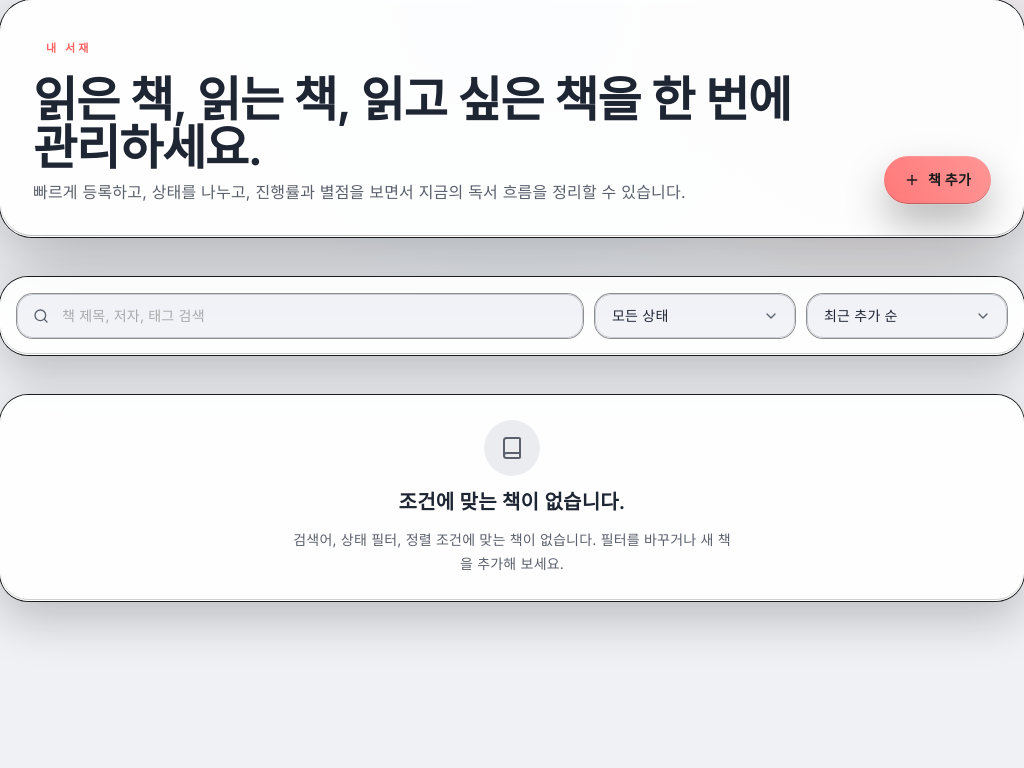
Test: BookListView › shows a hidden-by-filter notice after adding a book outside the current filter
Select "읽는 중" in the 1st dropdown at [695, 316], box [595,294,795,338]
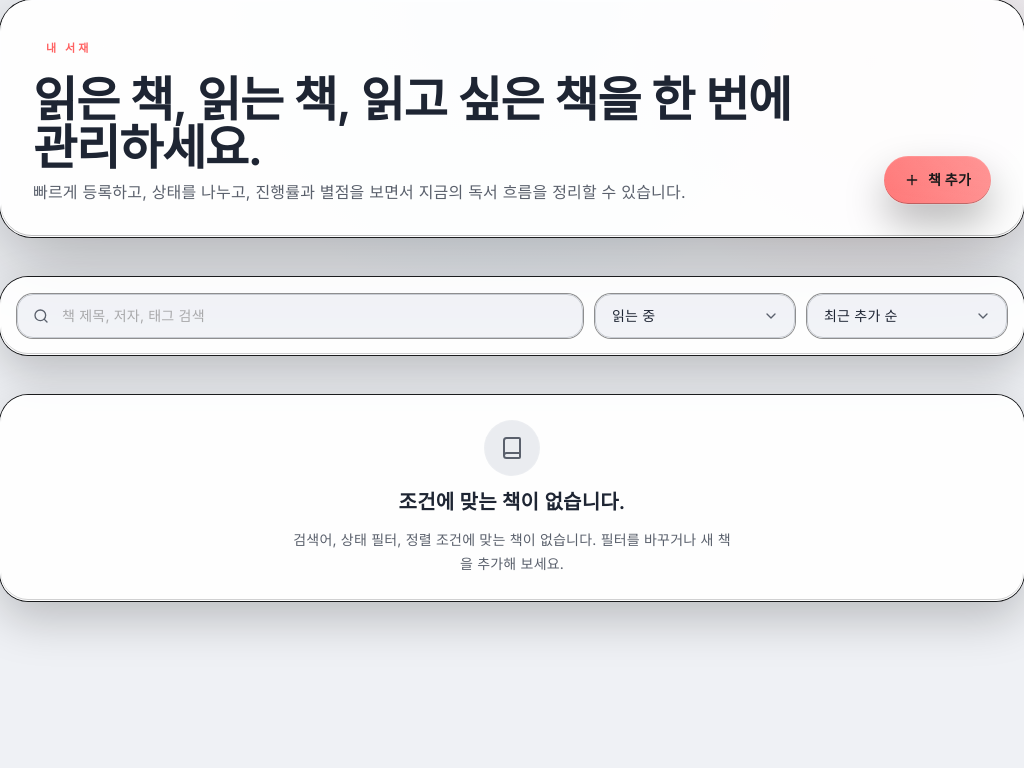
Click the button "책 추가".
click(938, 180)  # box [884,156,991,204]
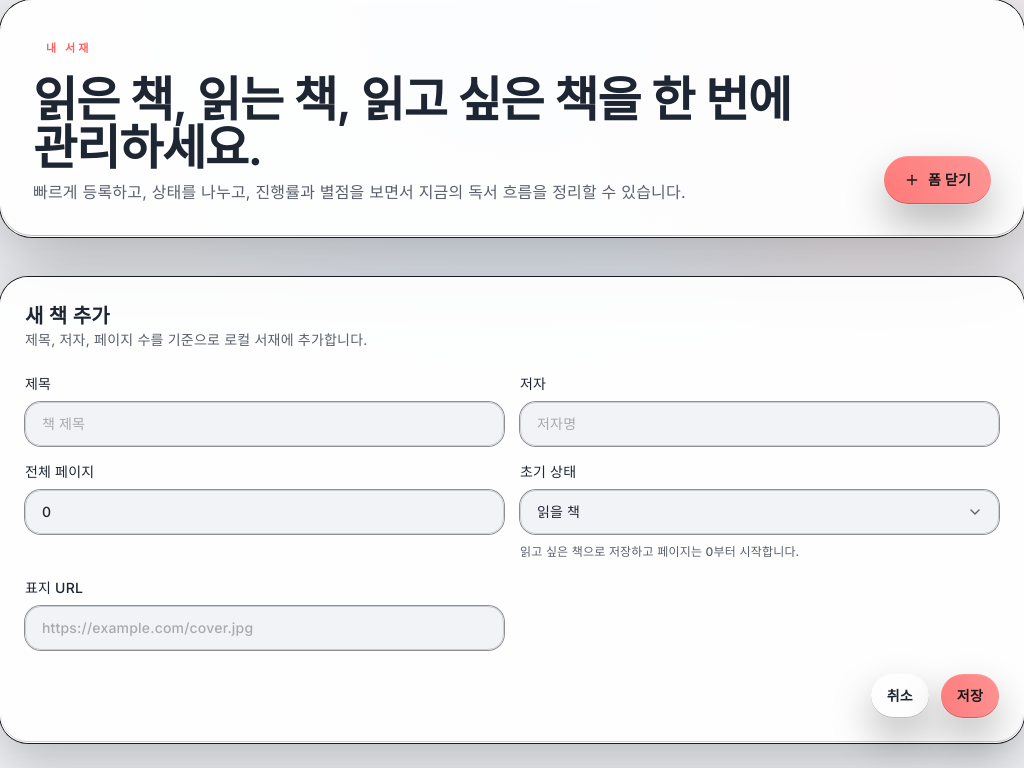
Type "Paused Book" into the field with placeholder "책 제목".
click(264, 424); type("Paused Book")  # box [25,402,504,446]
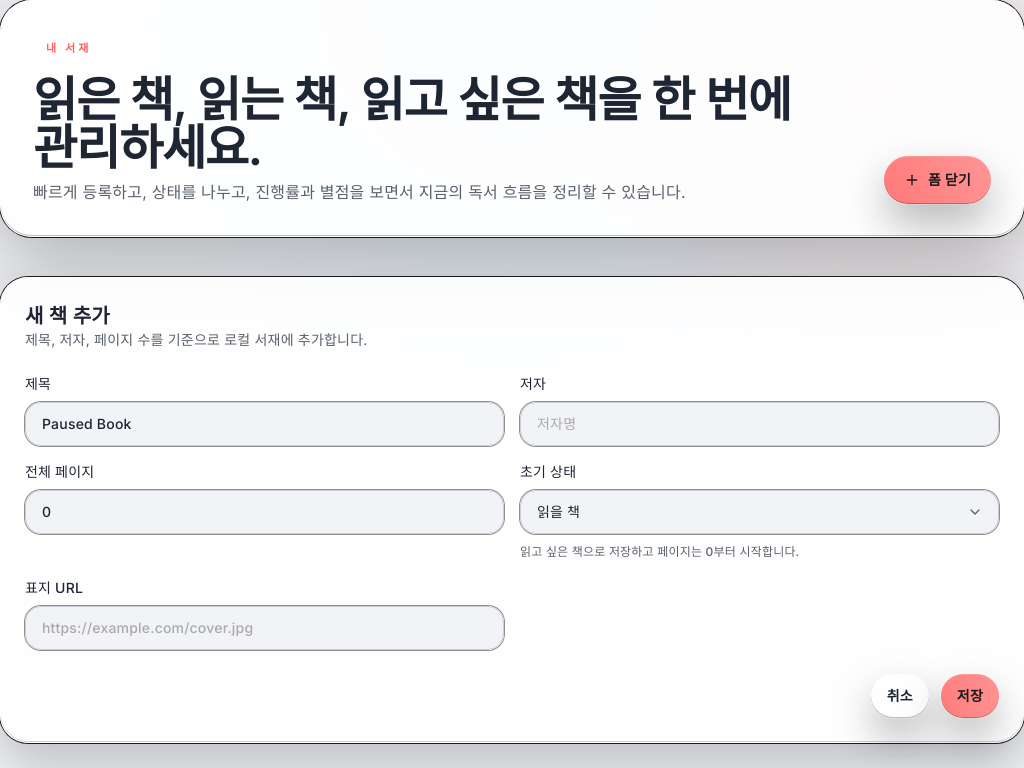
Type "Author" into the field with placeholder "저자명".
click(760, 424); type("Author")  # box [520,402,999,446]
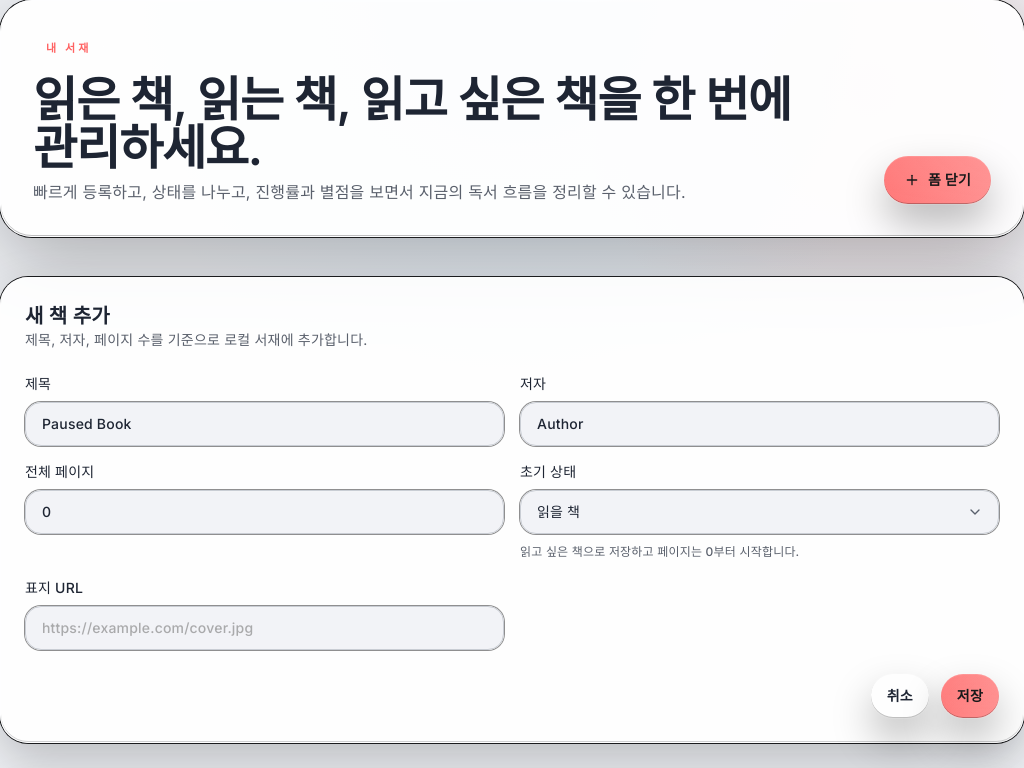
Replace the text in the number field with placeholder "전체 페이지 수" with "210" at [264, 512], box [25,490,504,534]
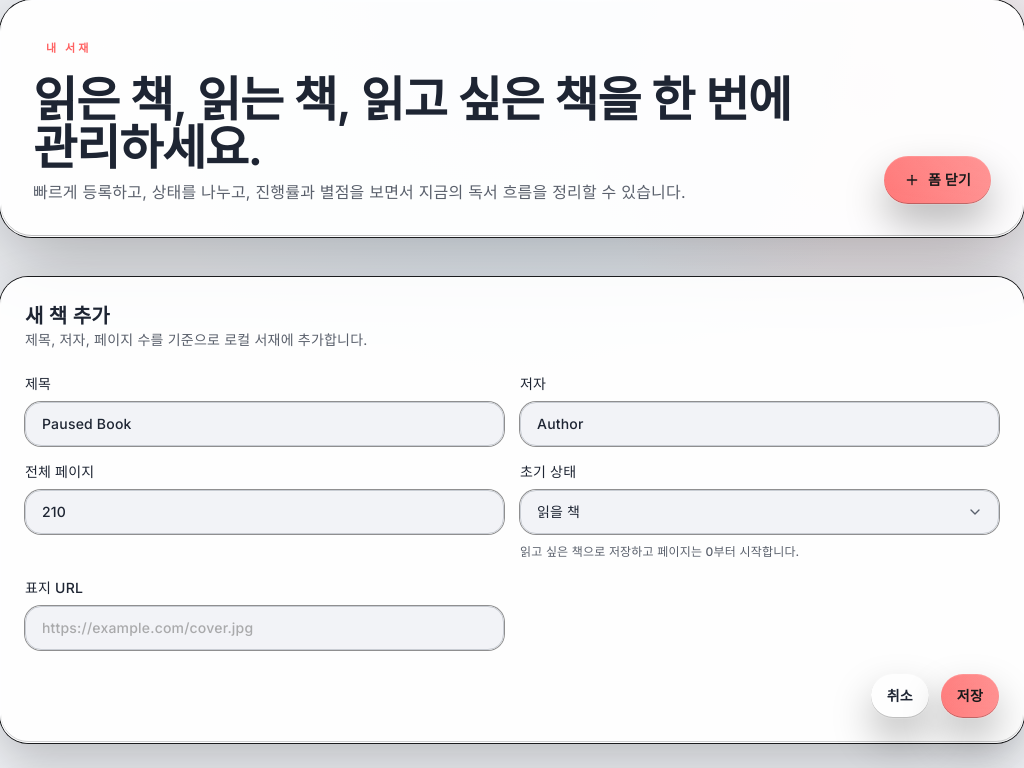
Select "읽을 책" in the dropdown named "초기 상태" at [760, 512], box [520,490,999,534]
Click the button "저장".
click(970, 696)  # box [941,674,999,718]
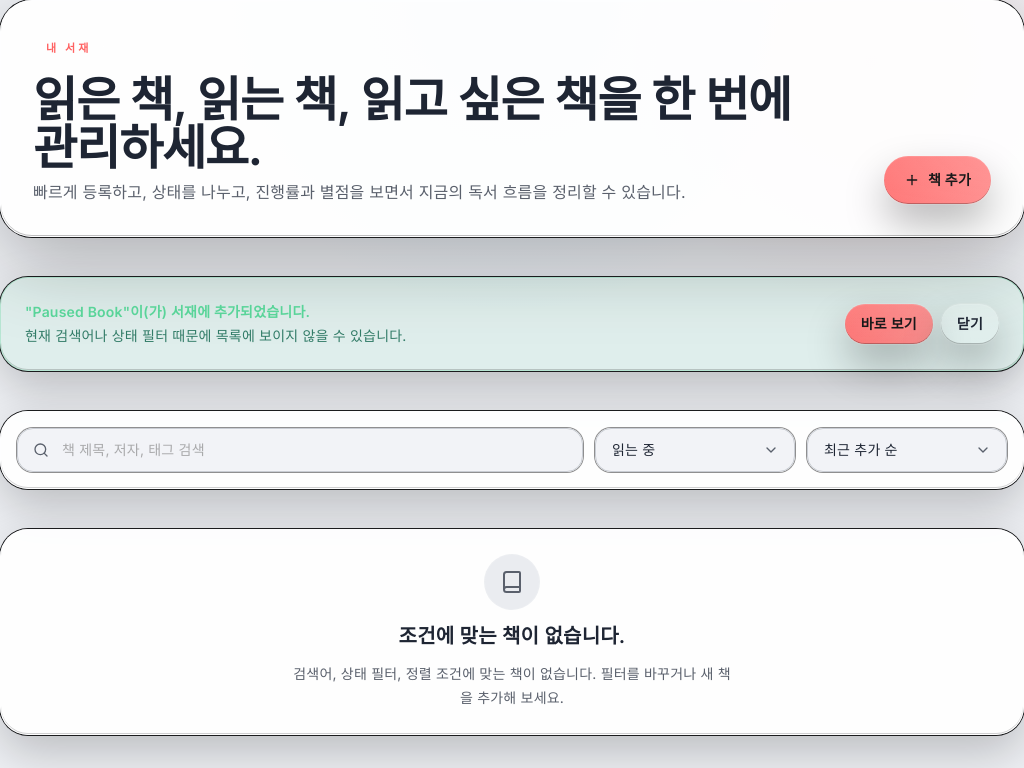
Now the text "현재 검색어나 상태 필터 때문에 목록에 보이지 않을 수 있습니다." is shown, box [25,326,407,346]
